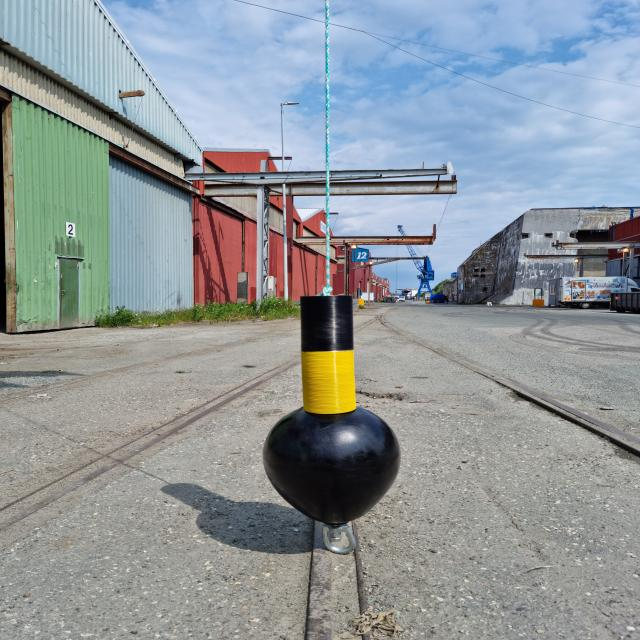east: (260, 295, 403, 526)
